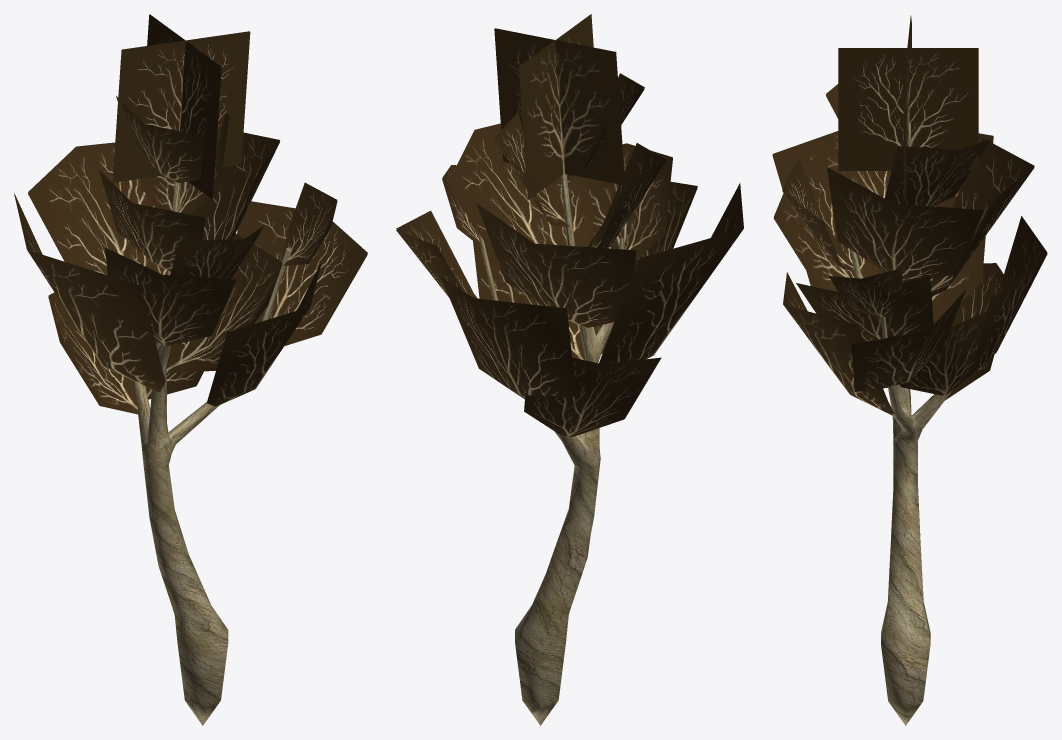
Rendered from decd_endr_destree_dead_l0.fbx.
The picture shows the model from 3 angles, left to right: view 1: azimuth 30°, elevation 25°; view 2: azimuth 150°, elevation 25°; view 3: azimuth 270°, elevation 25°; orthographic projection. The views are drawn at different scales.
Parts seen in each view (by area): view 1: mesh_node; view 2: mesh_node; view 3: mesh_node.
Boxes of the visible parts, box(x1,y1,x2,y2) form: mesh_node: box(14, 14, 367, 725); mesh_node: box(396, 14, 743, 725); mesh_node: box(772, 15, 1047, 725).
Size of the model in its own units: 8.62 by 17.48 by 6.46.
